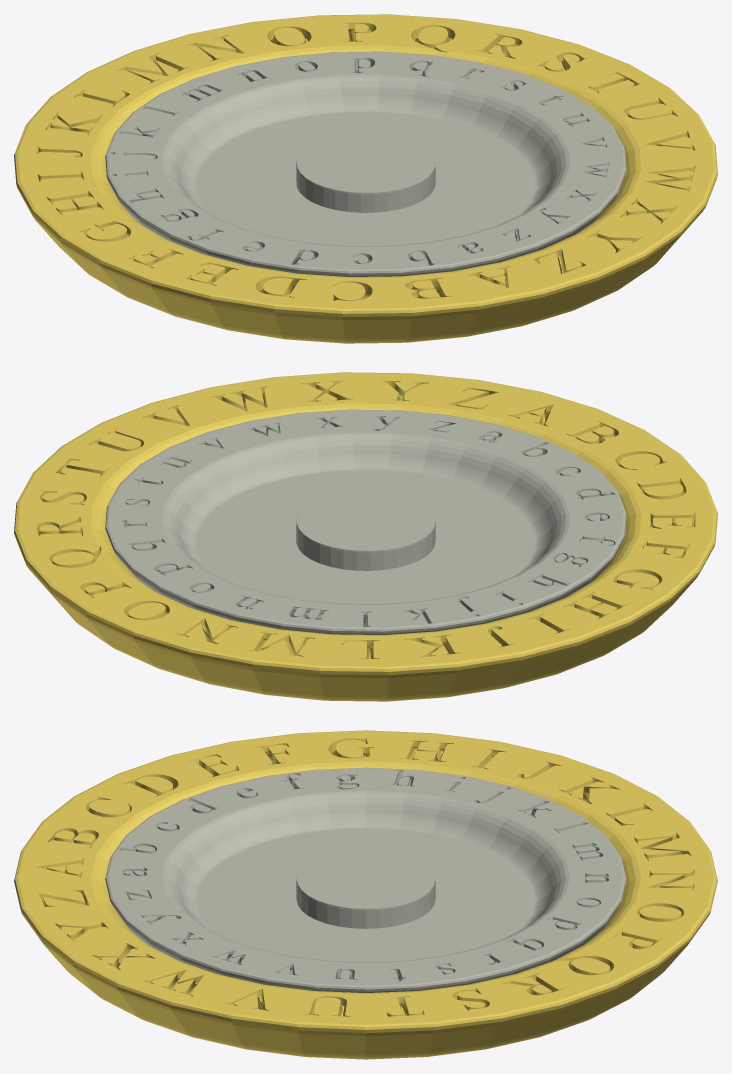
The model's file is CHIPERDISK.gltf.
3 renders of one model, top to bottom at view 1: azimuth 30°, elevation 25°; view 2: azimuth 150°, elevation 25°; view 3: azimuth 270°, elevation 25°, orthographic.
Visible parts, largest first — view 1: Circle.001, Circle; view 2: Circle.001, Circle; view 3: Circle.001, Circle.
Part boxes in pixels (box(x1,y1,x2,y2)): Circle.001: box(105, 51, 626, 276); Circle: box(14, 14, 717, 343); Circle.001: box(105, 409, 626, 634); Circle: box(14, 372, 717, 701); Circle.001: box(105, 767, 626, 992); Circle: box(14, 730, 717, 1059).
Bounding box in the file's own units: 0.2461 × 0.0204 × 0.2461.
